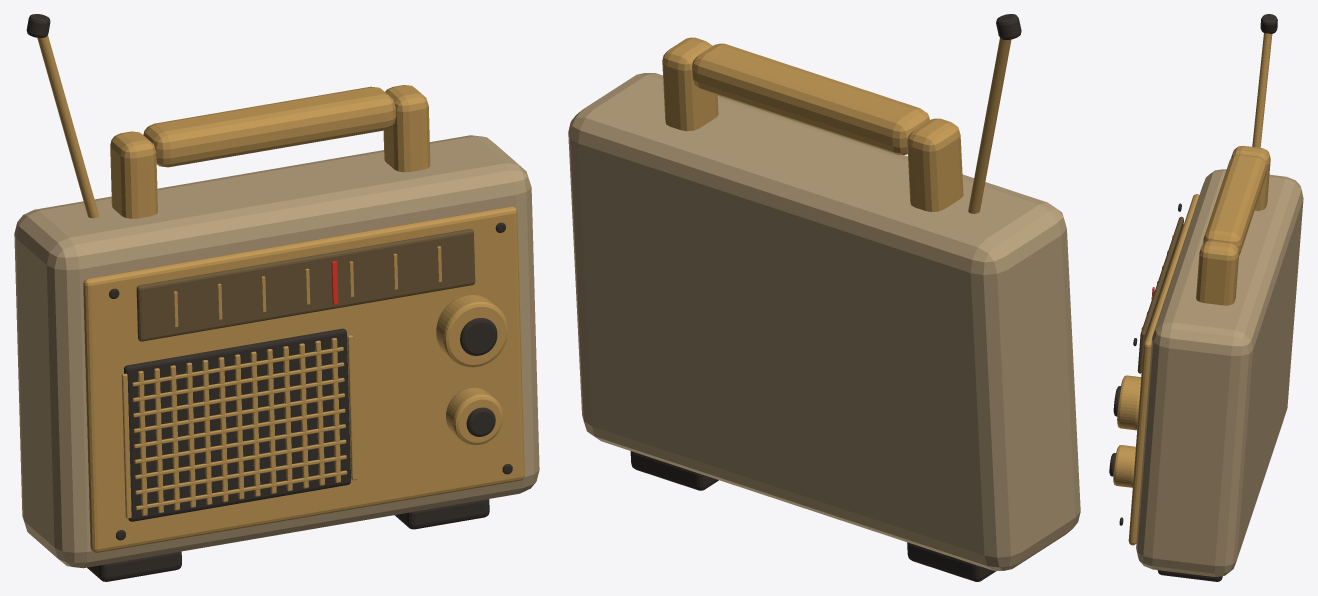
Rendered from radio-transistor-native.glb.
The picture shows the model from 3 angles, left to right: view 1: azimuth 30°, elevation 25°; view 2: azimuth 150°, elevation 25°; view 3: azimuth 270°, elevation 25°; orthographic projection. The views are drawn at different scales.
Visible parts, largest first — view 1: Boîtier radio, Façade, Grille haut-parleur, Cadran, Poignée haute, Montant poignée gauche, Montant poignée droit, Bouton, Antenne, Bouton.001, Pied.001, Pied (+26 smaller); view 2: Boîtier radio, Poignée haute, Montant poignée gauche, Montant poignée droit, Antenne, Pied.001, Pied; view 3: Boîtier radio, Poignée haute, Façade, Montant poignée droit, Bouton, Antenne, Cadran, Bouton.001, Montant poignée gauche, Pied.001, Embout antenne.
Boxes of the visible parts, x1,y1,x2,y2 form: Boîtier radio: (14,135,539,568); Façade: (83,206,524,552); Grille haut-parleur: (124,328,350,521); Cadran: (136,229,475,341); Poignée haute: (143,86,396,167); Montant poignée gauche: (110,131,157,218); Montant poignée droit: (383,85,430,172); Bouton: (436,295,508,367); Antenne: (37,35,98,218); Bouton.001: (446,388,503,445); Pied.001: (394,499,489,529); Pied: (87,551,181,581); Boîtier radio: (568,73,1080,570); Poignée haute: (692,43,929,155); Montant poignée gauche: (907,118,963,211); Montant poignée droit: (662,37,718,131); Antenne: (968,38,1011,213); Pied.001: (630,451,718,490); Pied: (907,542,996,581); Boîtier radio: (1136,169,1303,577); Poignée haute: (1203,154,1266,255); Façade: (1128,194,1199,545); Montant poignée droit: (1196,240,1239,305); Bouton: (1117,375,1141,430); Antenne: (1252,33,1272,147); Cadran: (1137,216,1183,373); Bouton.001: (1113,445,1135,487); Montant poignée gauche: (1231,146,1270,210); Pied.001: (1157,570,1222,581); Embout antenne: (1260,14,1277,33).
Size of the model in its own units: 3.36 by 3.82 by 1.6.
